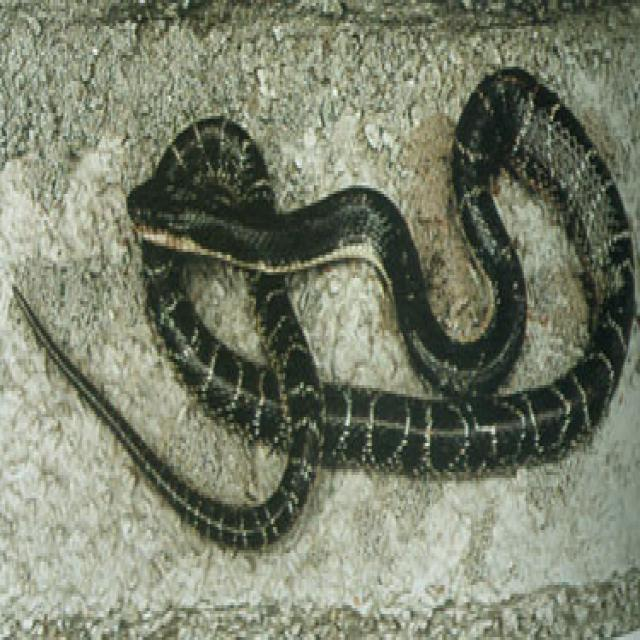Snake: (10, 63, 637, 550)
